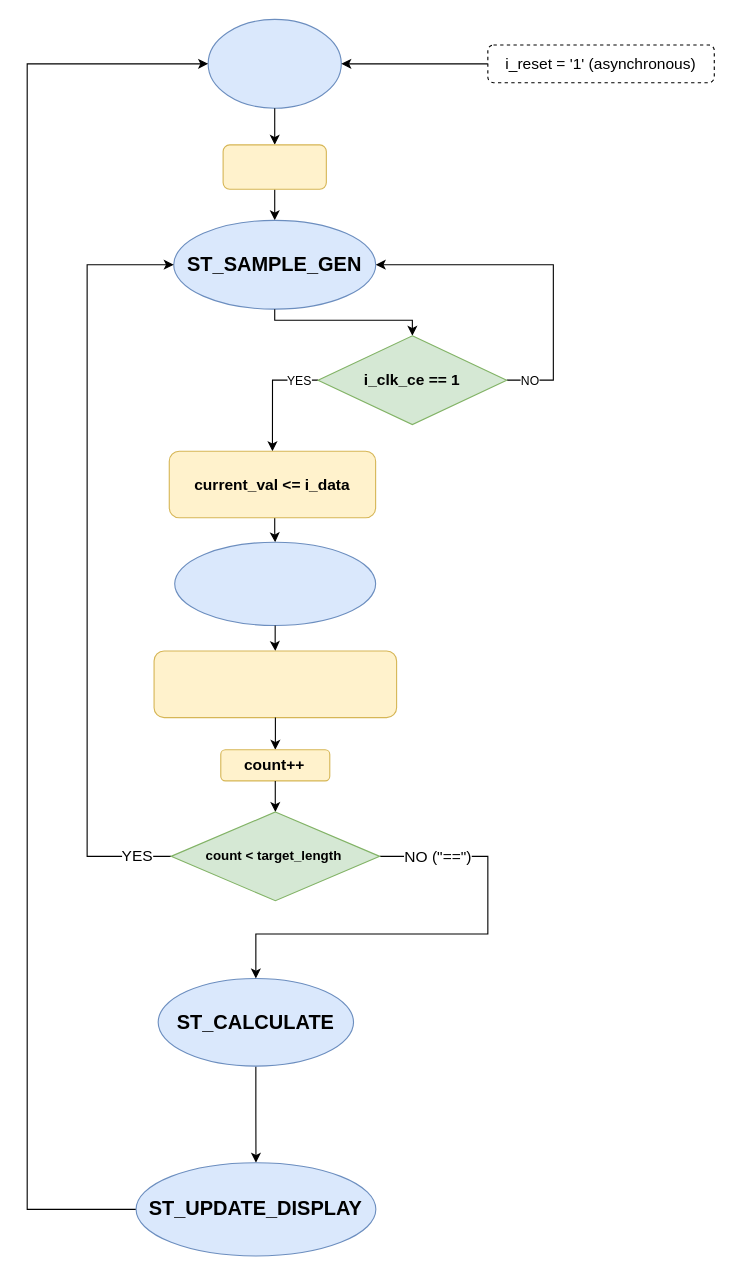
This 734x1275 diagram has some shape labels left out. Each missing label, with the box of its shape:
count = 0: (222, 144, 326, 189)
r_accumulator += current_val: (153, 650, 397, 718)
ST_ACCUMULATE: (174, 541, 376, 625)
ST_IDLE: (207, 18, 341, 108)
